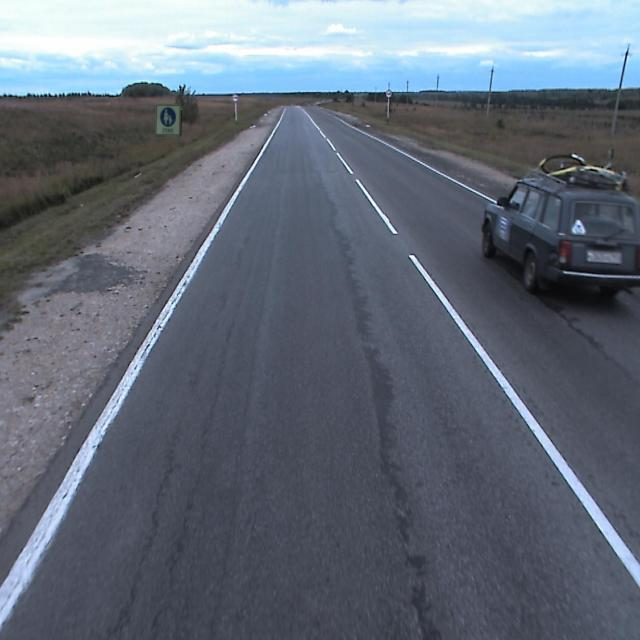road: (0, 103, 639, 639)
